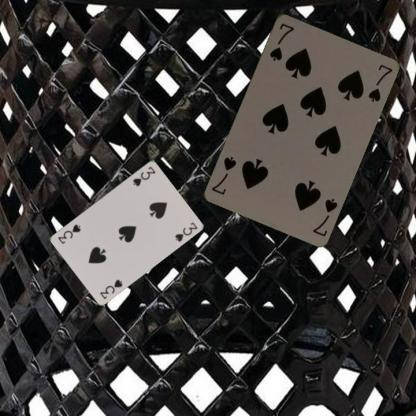3s: (97, 277, 124, 300), (130, 164, 156, 187)
7s: (266, 20, 296, 62), (310, 196, 338, 238)
